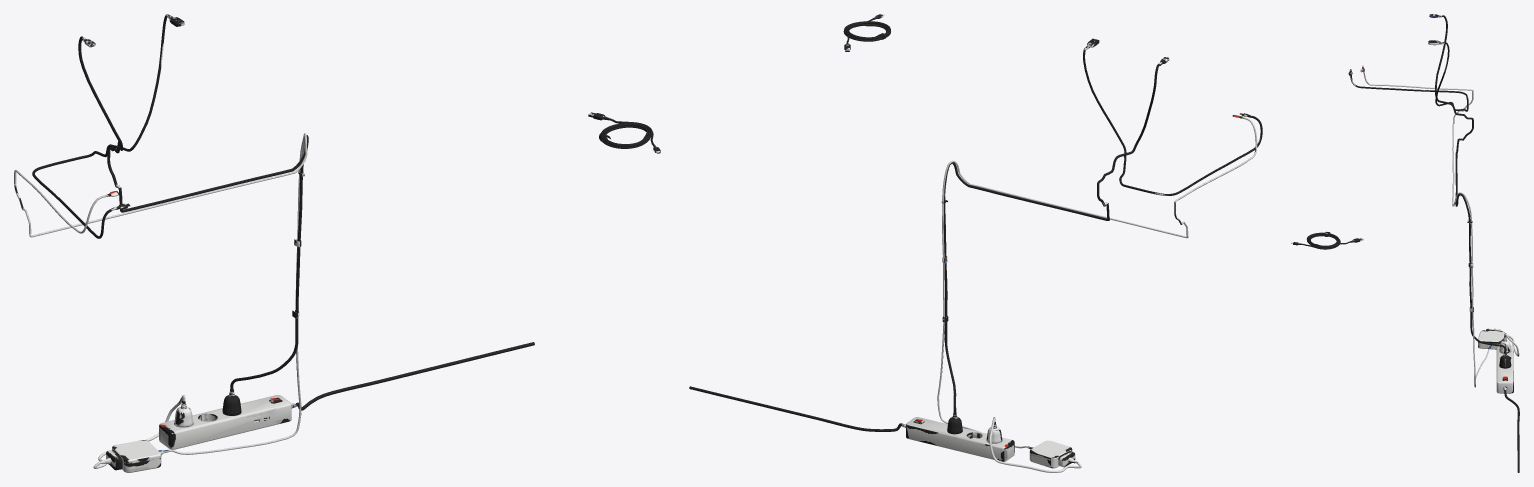
Rendered from cables.glb.
3 renders of one model, left to right at view 1: azimuth 30°, elevation 25°; view 2: azimuth 150°, elevation 25°; view 3: azimuth 270°, elevation 25°, orthographic. The views are drawn at different scales.
Visible parts, largest first — view 1: NEW_cables_root__mesh; view 2: NEW_cables_root__mesh; view 3: NEW_cables_root__mesh.
Boxes of the visible parts, x1,y1,x2,y2 form: NEW_cables_root__mesh: [14, 14, 660, 472]; NEW_cables_root__mesh: [689, 14, 1262, 472]; NEW_cables_root__mesh: [1291, 14, 1519, 472].
Bounding box in the file's own units: 1.31 × 1.05 × 0.7199.
Materials: 2 (2 with a texture image).
